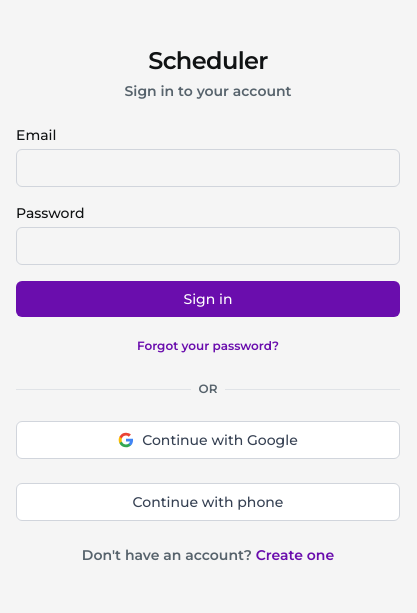
Test case: LoginPage › supports Google sign-in and surfaces popup failures
Click the button "Continue with Google" at (208, 440), box top-left (16, 421), bottom-right (400, 459)
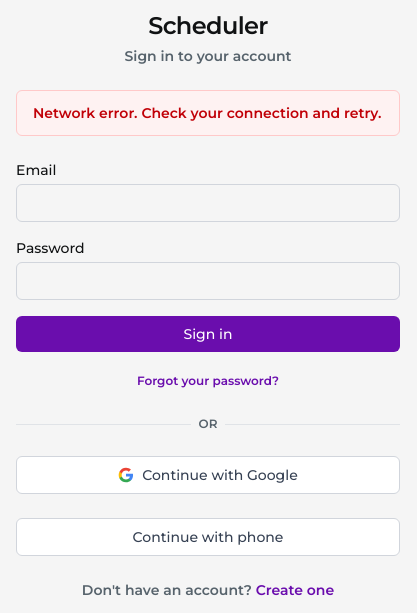
Now the text "Network error. Check your connection and retry." is shown, box top-left (16, 90), bottom-right (400, 136)
